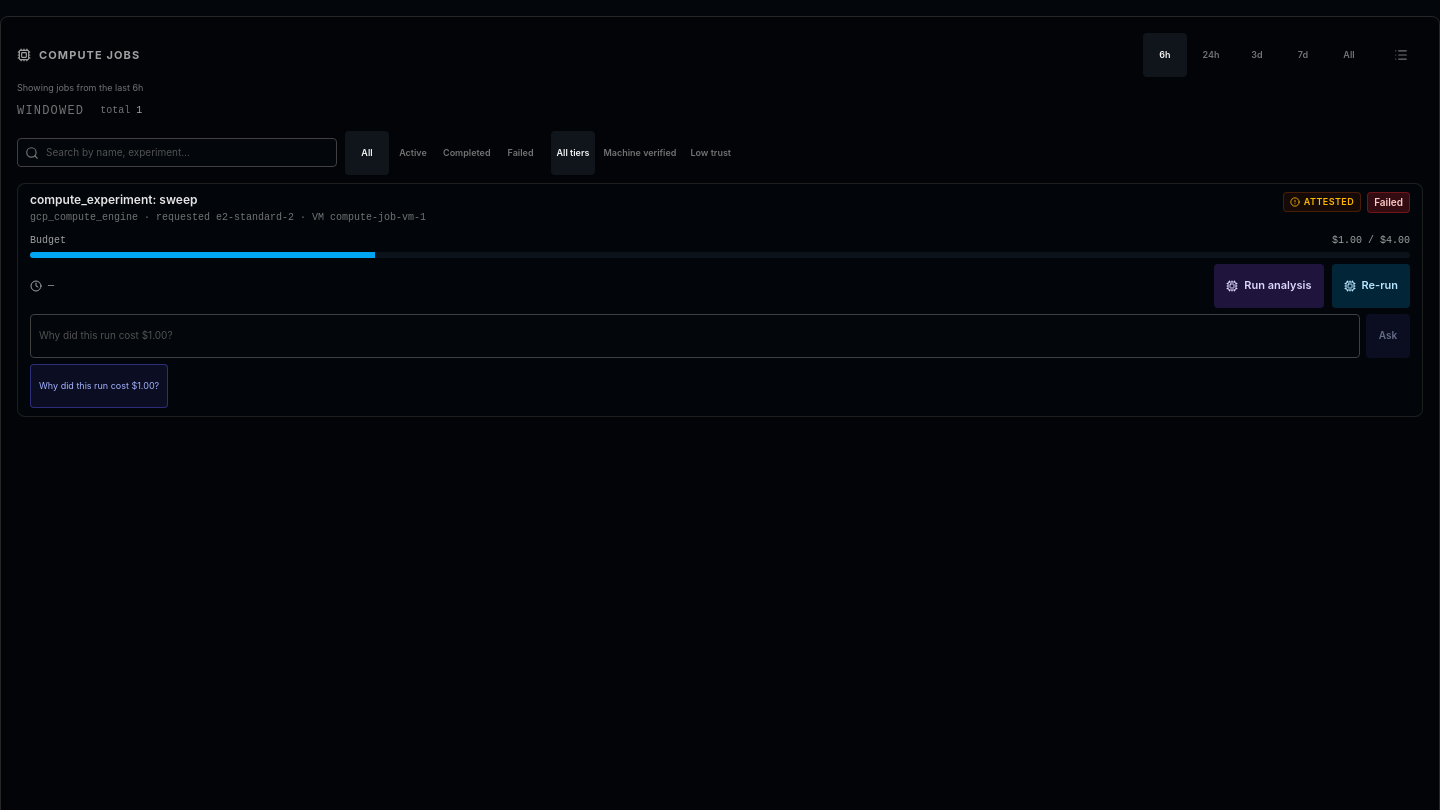
Test: ComputeJobsPanel render + kill › run analysis surfaces unavailable cause labels
Click the button "Run analysis". click: [1269, 286]
box: [1214, 264, 1324, 308]
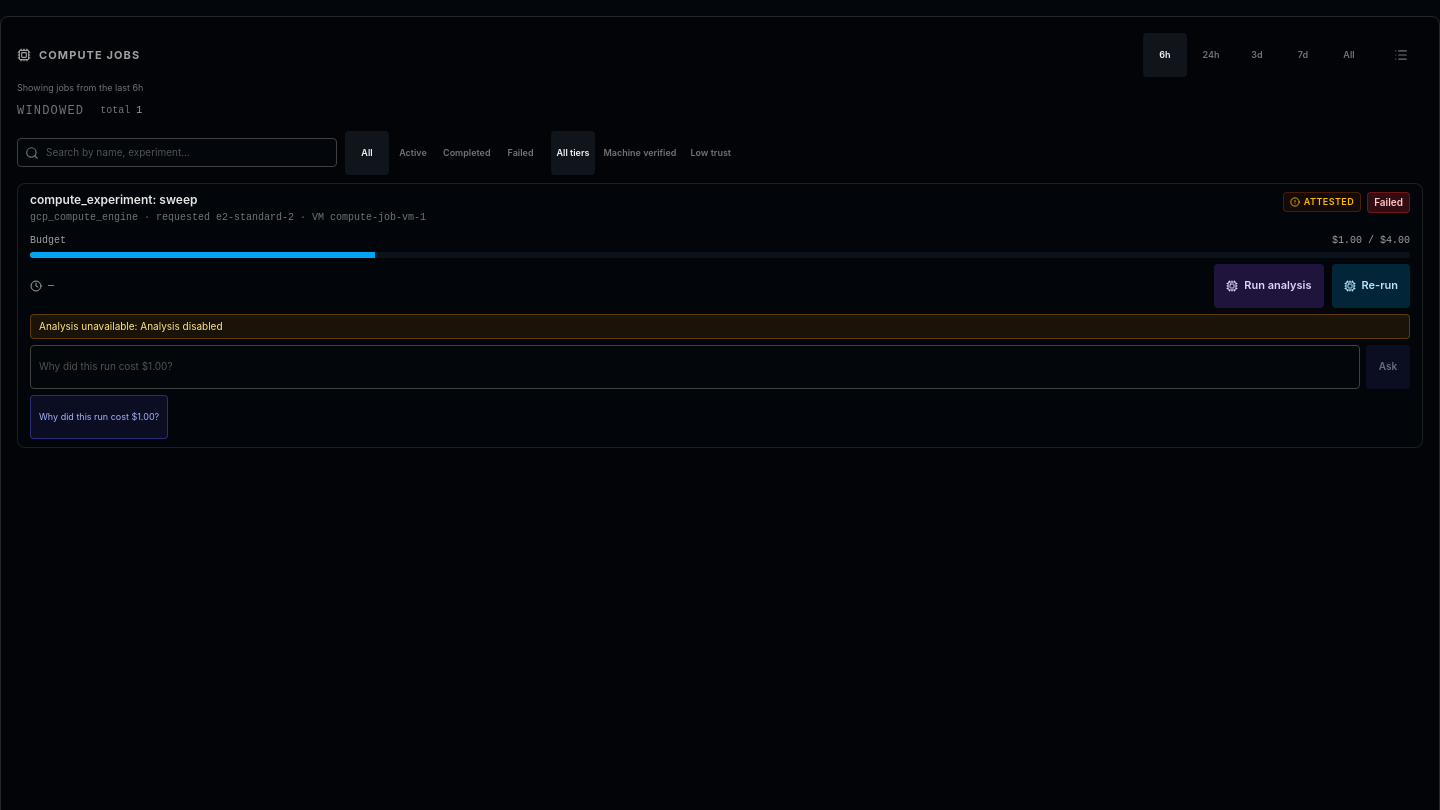
Expected: the text "Analysis unavailable: Analysis disabled" is shown, [30, 314, 1410, 338]
